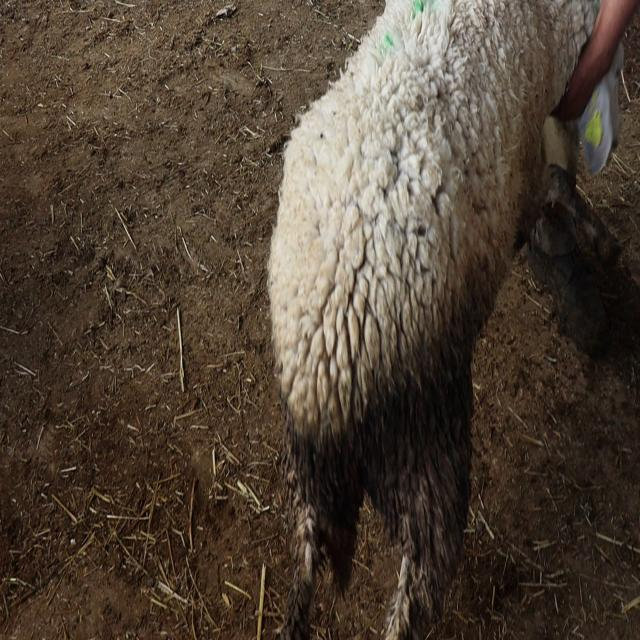Score_3: (268, 0, 640, 639)
